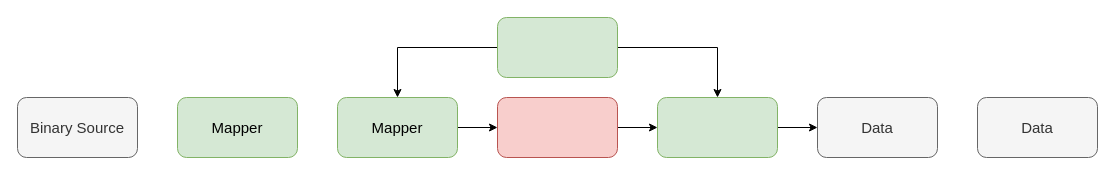
Image size: 1115x175. Some labels were removed from this diagram. Each missing label, with the centre of its shape:
AWGN Channel: [557,127]
Demapper: [717,127]
QAM Constellation: [557,47]
